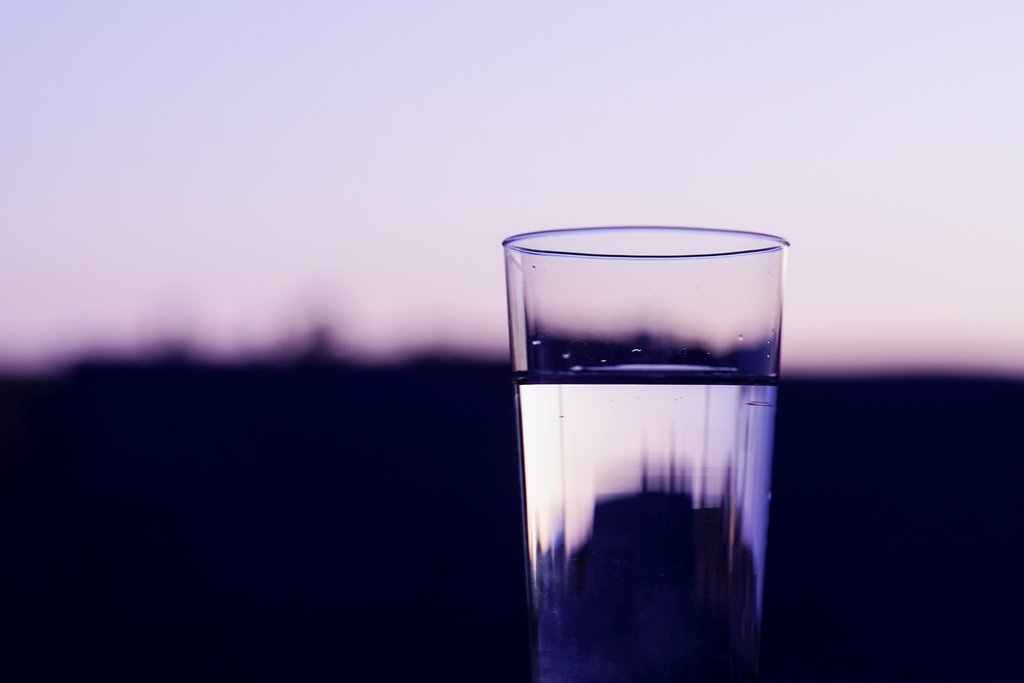glass of water: (497, 212, 787, 659)
